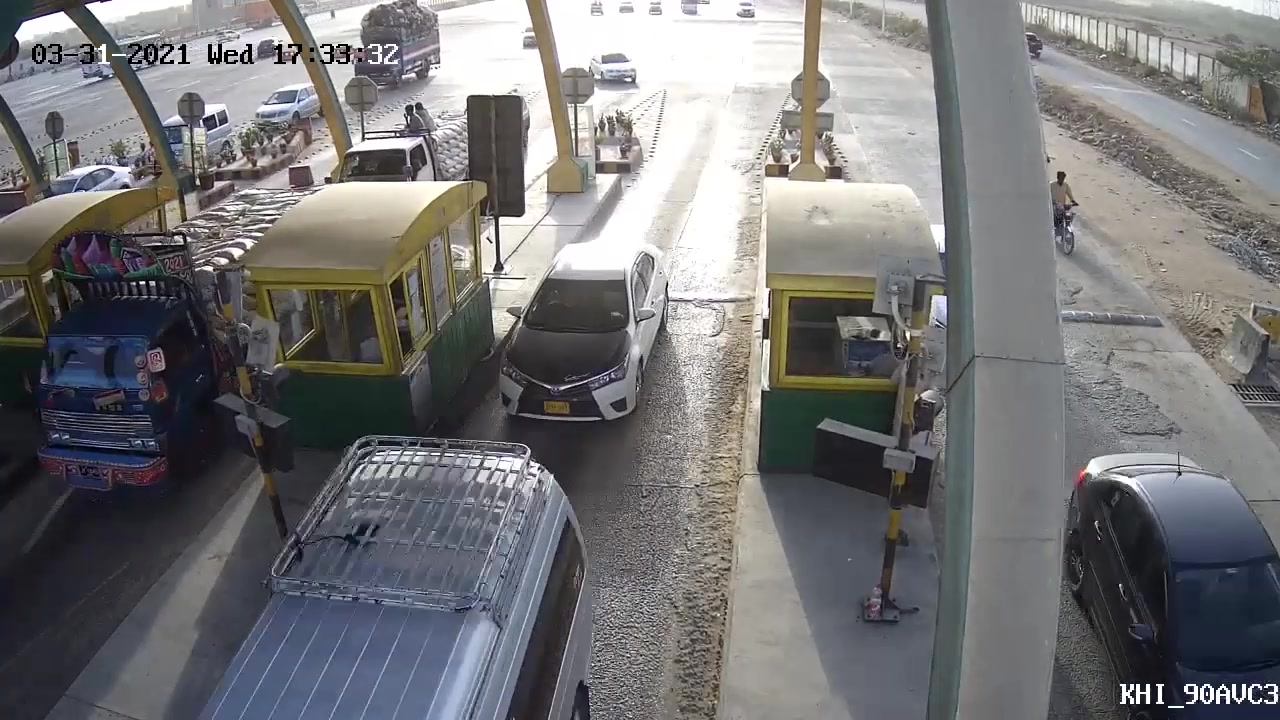F1: (499, 222, 672, 422)
